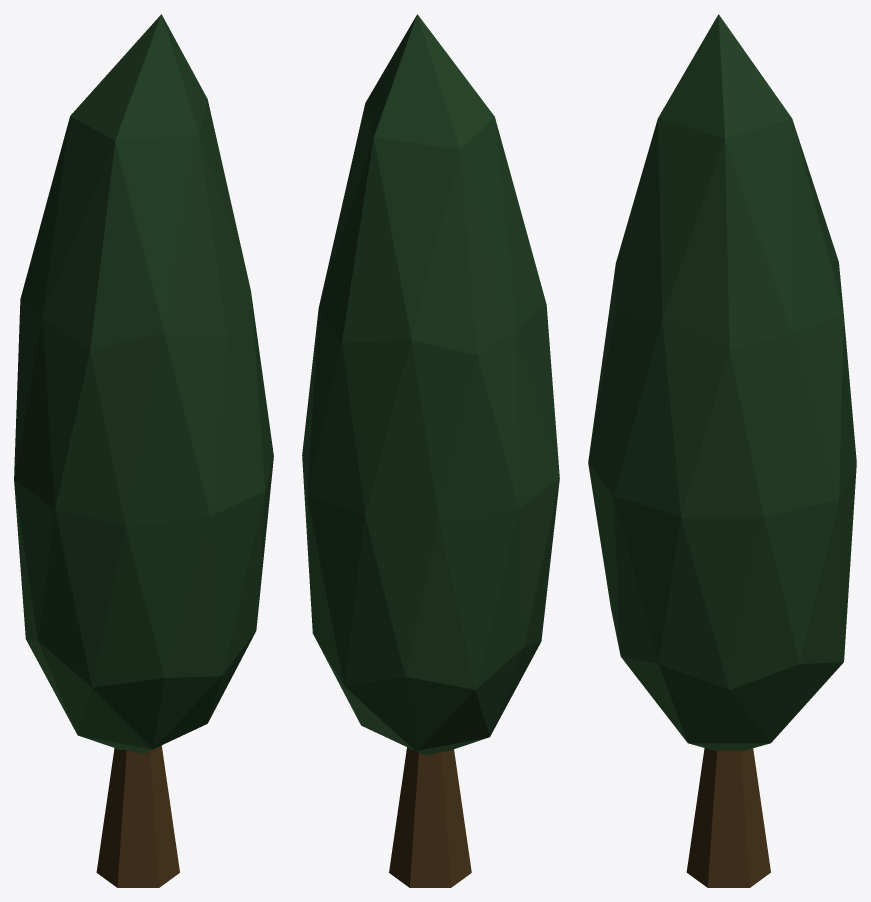
File: Cyprus2.fbx
The picture shows the model from 3 angles, left to right: view 1: azimuth 30°, elevation 25°; view 2: azimuth 150°, elevation 25°; view 3: azimuth 270°, elevation 25°; orthographic projection.
Visible parts, largest first — view 1: Icosphere, Cylinder; view 2: Icosphere, Cylinder; view 3: Icosphere, Cylinder.
Part boxes in pixels (<box>): Icosphere: <box>14,14,273,753</box>; Cylinder: <box>96,745,179,887</box>; Icosphere: <box>302,14,559,755</box>; Cylinder: <box>389,747,471,887</box>; Icosphere: <box>588,14,856,750</box>; Cylinder: <box>686,748,770,887</box>.
Size of the model in its own units: 241 by 902 by 253.
